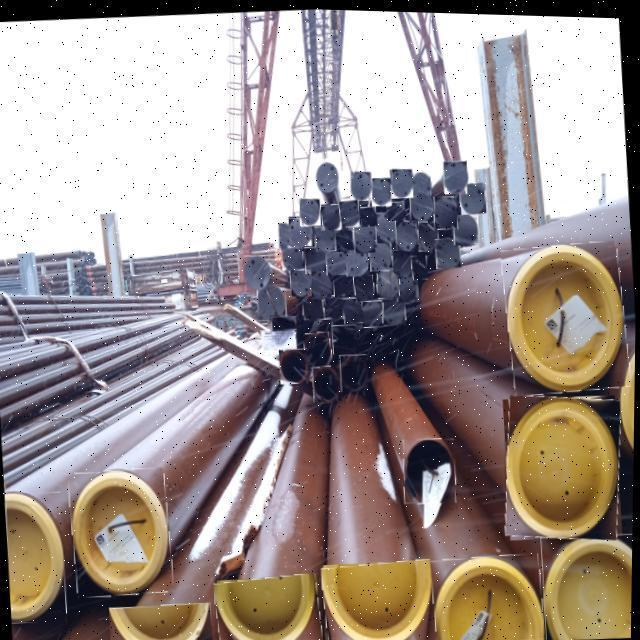pipe: (501, 236, 632, 392), (506, 392, 621, 536), (69, 466, 175, 597), (432, 550, 546, 640), (322, 556, 440, 640), (542, 530, 634, 636), (6, 491, 67, 622), (215, 571, 324, 640), (110, 601, 214, 640), (404, 436, 457, 501), (618, 344, 636, 458), (340, 351, 369, 389), (279, 346, 309, 382), (304, 329, 333, 366), (258, 283, 286, 319), (244, 253, 272, 289), (313, 365, 341, 400), (459, 179, 487, 211), (332, 322, 359, 352), (436, 235, 462, 266), (453, 211, 479, 242), (369, 237, 394, 269), (444, 157, 467, 191), (434, 194, 457, 226), (375, 210, 399, 240), (316, 159, 339, 190), (410, 190, 434, 219), (346, 244, 369, 274), (377, 267, 400, 296), (289, 215, 312, 244), (391, 246, 413, 276), (396, 217, 418, 247), (281, 242, 305, 269), (353, 272, 376, 300), (384, 294, 406, 323), (391, 166, 413, 195), (314, 222, 337, 249), (290, 266, 312, 294), (305, 244, 327, 272), (354, 222, 376, 250), (351, 169, 372, 198), (302, 292, 325, 318), (326, 244, 346, 273), (419, 219, 439, 248), (397, 273, 419, 299), (343, 294, 364, 321), (339, 198, 360, 225), (312, 269, 332, 296), (301, 196, 321, 223), (372, 175, 391, 203), (334, 271, 355, 296), (363, 299, 383, 325), (321, 202, 341, 228), (335, 225, 355, 249), (325, 293, 344, 317), (412, 170, 431, 193), (412, 252, 428, 277), (272, 313, 297, 328), (387, 198, 405, 218), (360, 204, 377, 223), (279, 221, 292, 245)
